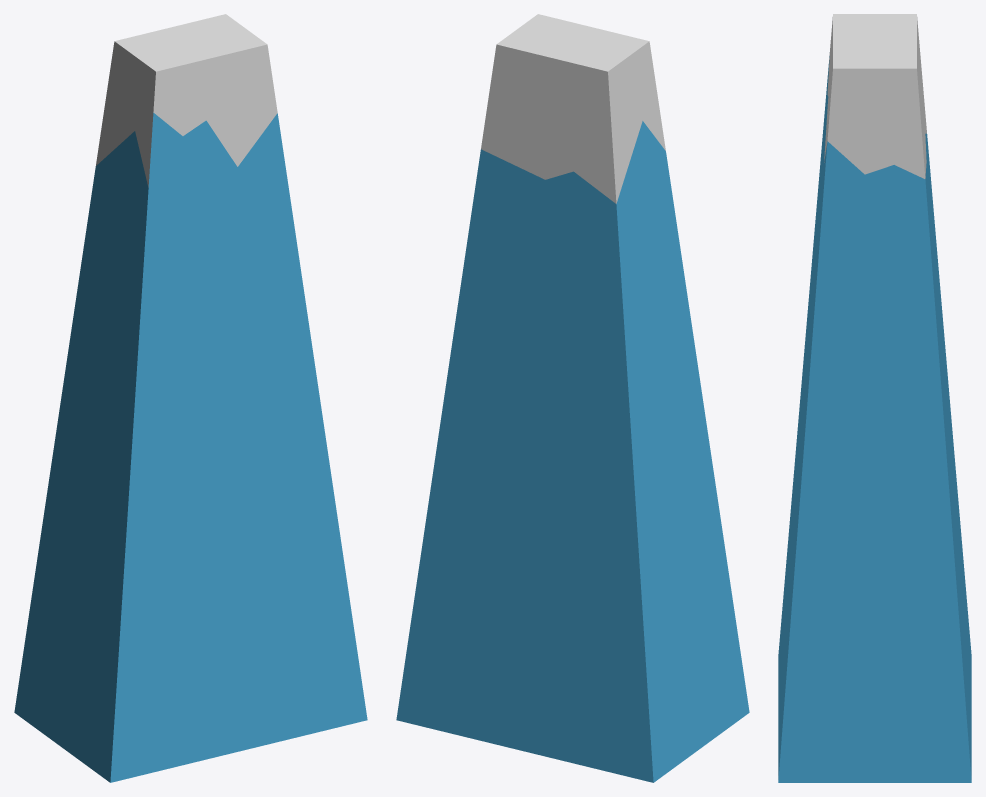
The model's file is Mountain3.fbx.
3 renders of one model, left to right at view 1: azimuth 30°, elevation 25°; view 2: azimuth 150°, elevation 25°; view 3: azimuth 270°, elevation 25°, orthographic.
Parts seen in each view (by area): view 1: Mountain3; view 2: Mountain3; view 3: Mountain3.
Boxes of the visible parts, left/top/right/bottom form: Mountain3: left=14, top=14, right=367, bottom=782; Mountain3: left=396, top=14, right=749, bottom=782; Mountain3: left=778, top=14, right=971, bottom=782.
Bounding box in the file's own units: 169 × 423 × 109.
